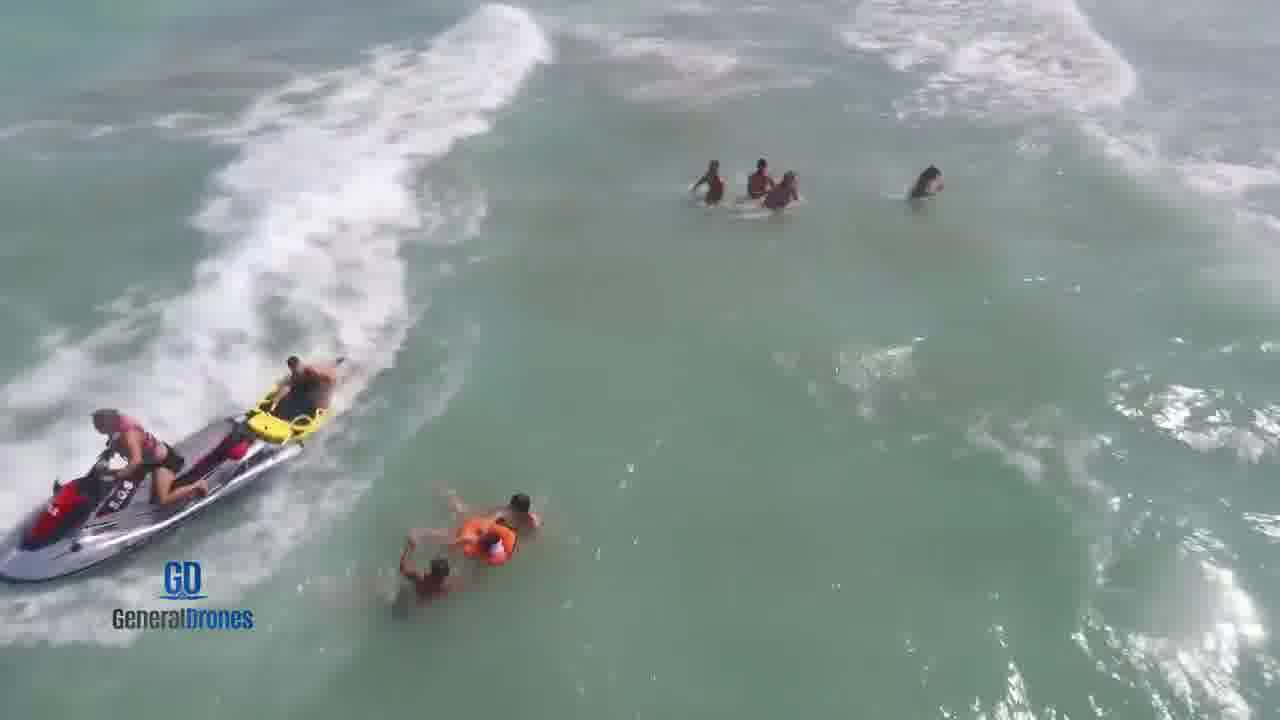human: (360, 540, 461, 610), (416, 492, 504, 555), (488, 478, 558, 529)
